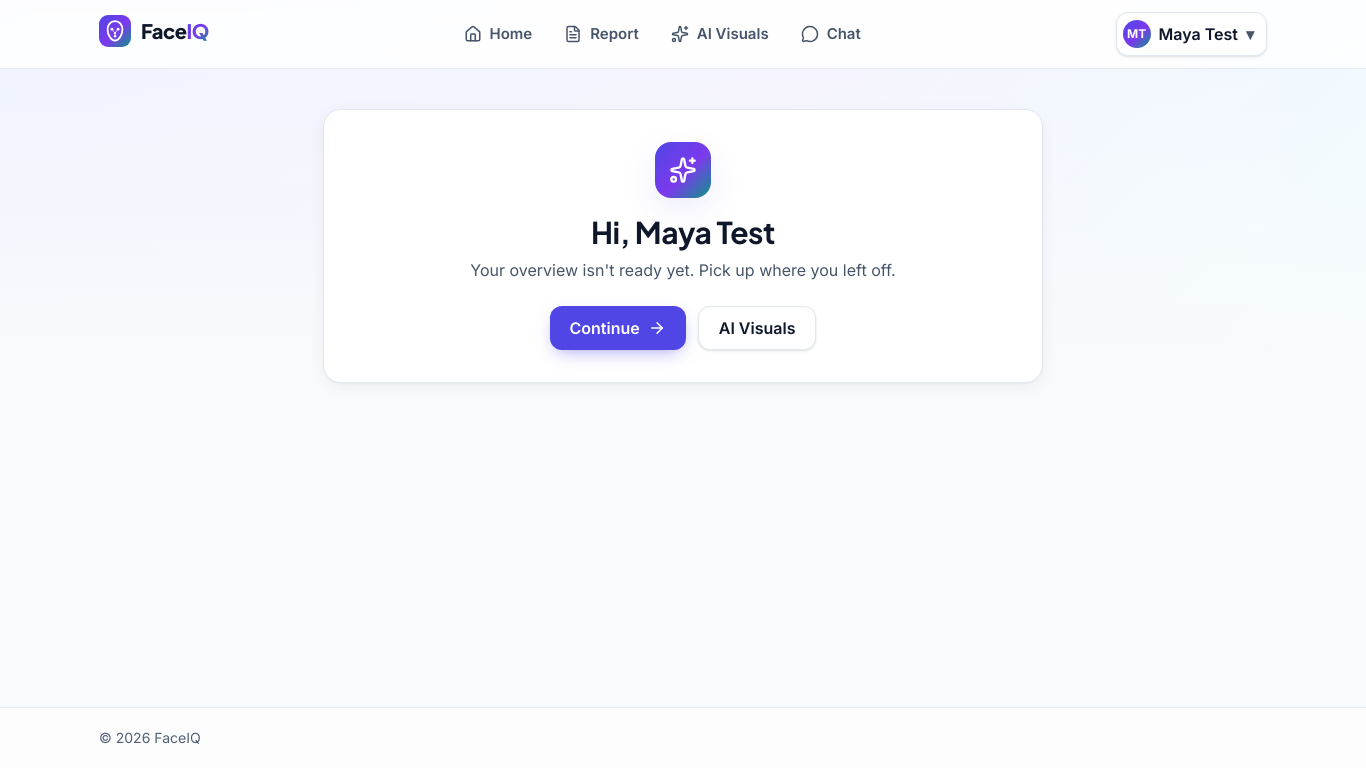
Test case: HomePage › keeps the user signed in when the logout is cancelled
The width and height of the screenshot is (1366, 768).
Click the button with test id "user-menu-button" at (1191, 34), box [1116,12,1267,56]
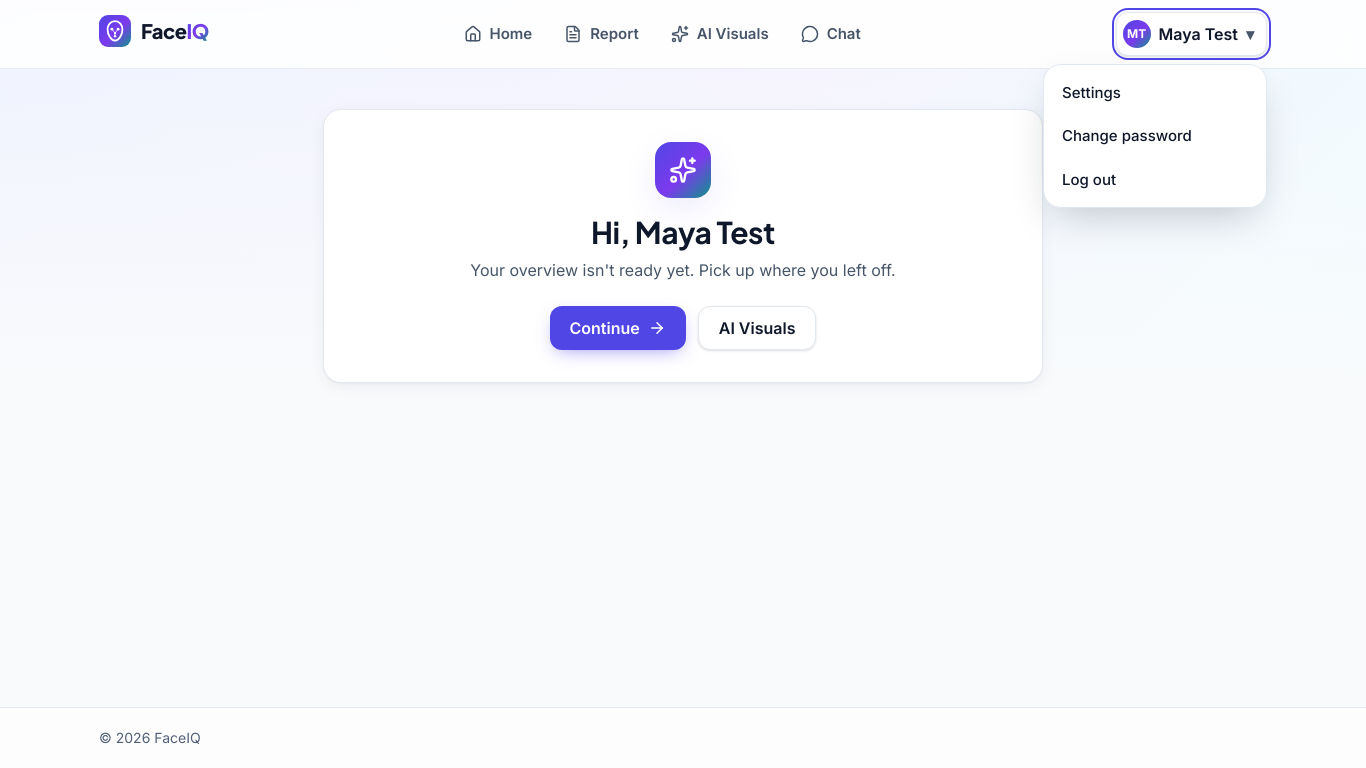
Click the menu item with test id "user-menu-logout" at (1155, 179), box [1050,158,1260,201]
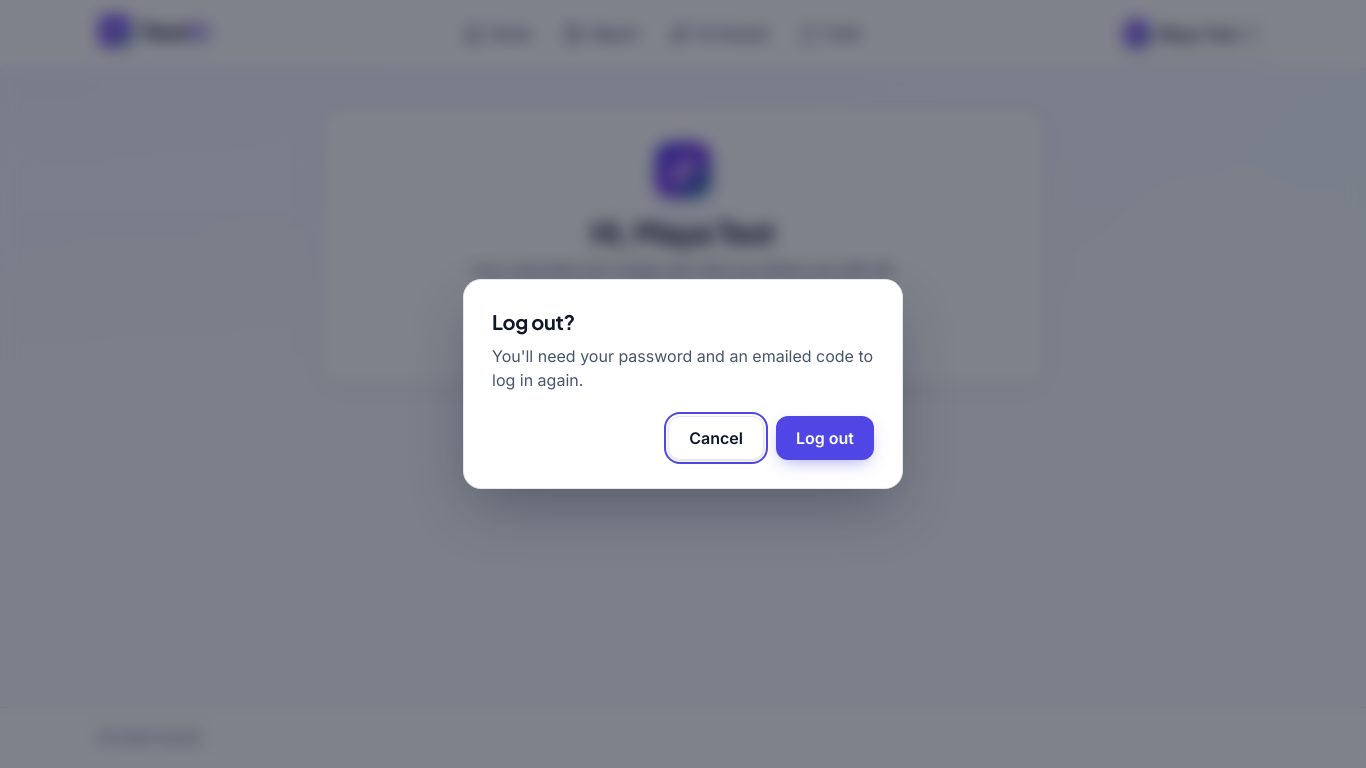
Click the button with test id "confirm-dialog-cancel" at (716, 438), box [668,416,764,460]
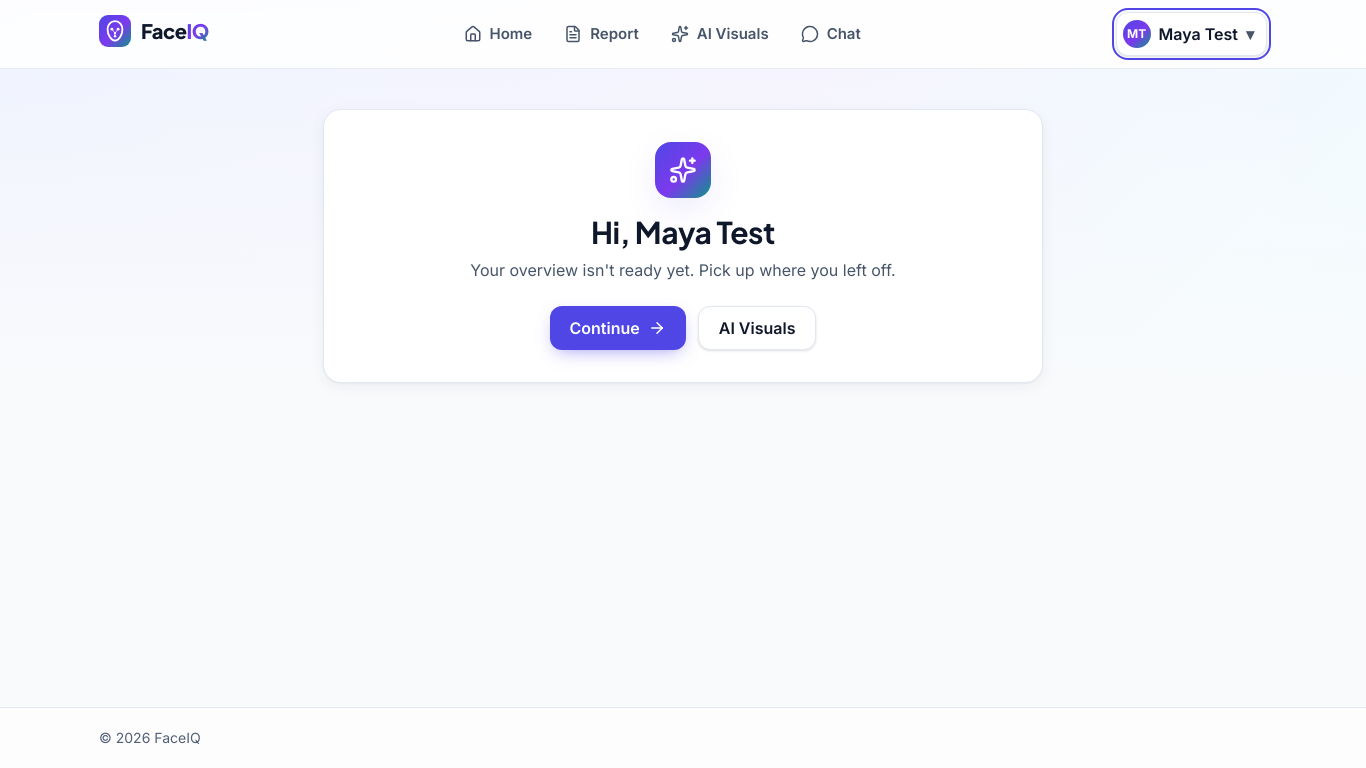
expect the dialog with test id "confirm-dialog" is gone: met
